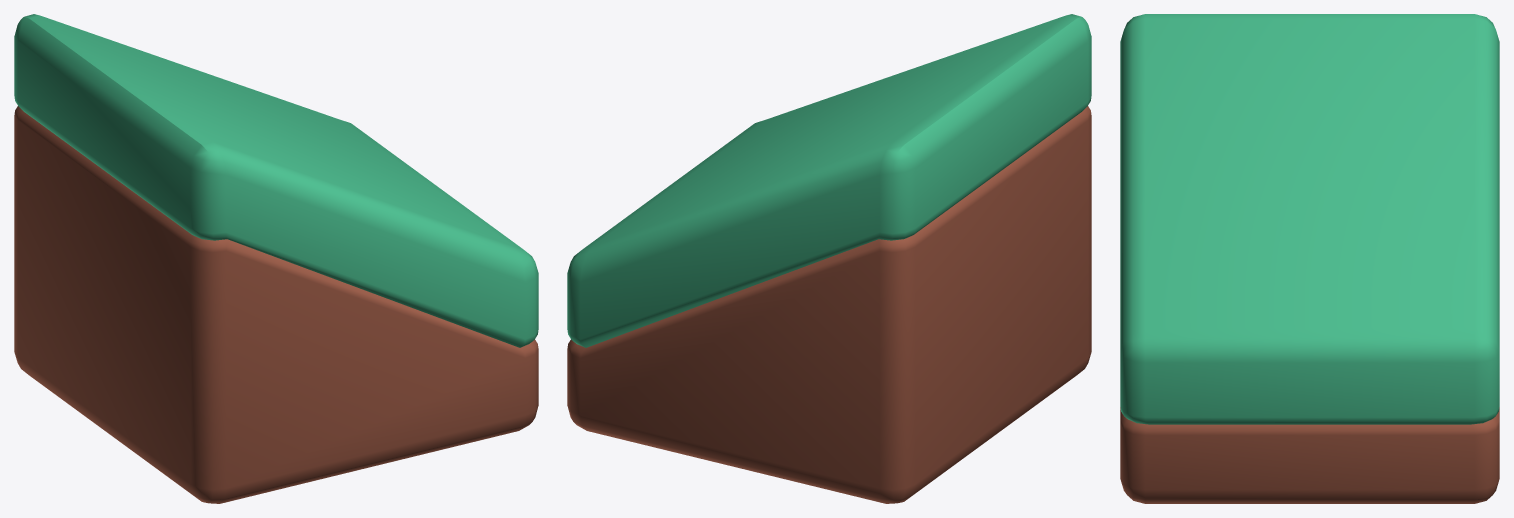
File: tileSlopeLowHigh_forest.glb
3 views of the same model, side by side, from view 1: azimuth 30°, elevation 25°; view 2: azimuth 150°, elevation 25°; view 3: azimuth 270°, elevation 25° (orthographic). The views are drawn at different scales.
Parts seen in each view (by area): view 1: tileSlopeLowHigh_forest; view 2: tileSlopeLowHigh_forest; view 3: tileSlopeLowHigh_forest.
Part boxes in pixels (x1,y1,x2,y2): tileSlopeLowHigh_forest: (14,14,538,503); tileSlopeLowHigh_forest: (567,14,1091,503); tileSlopeLowHigh_forest: (1120,14,1499,503).
Bounding box in the file's own units: 2 × 2 × 2.
